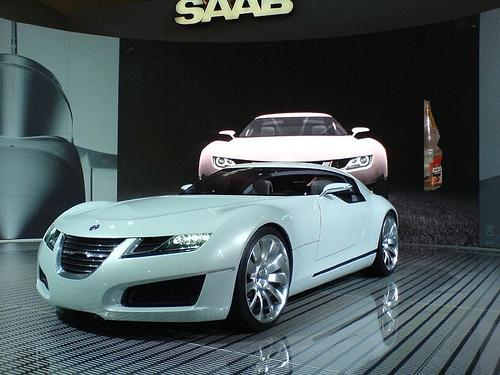tampered: (425, 101, 442, 191)
